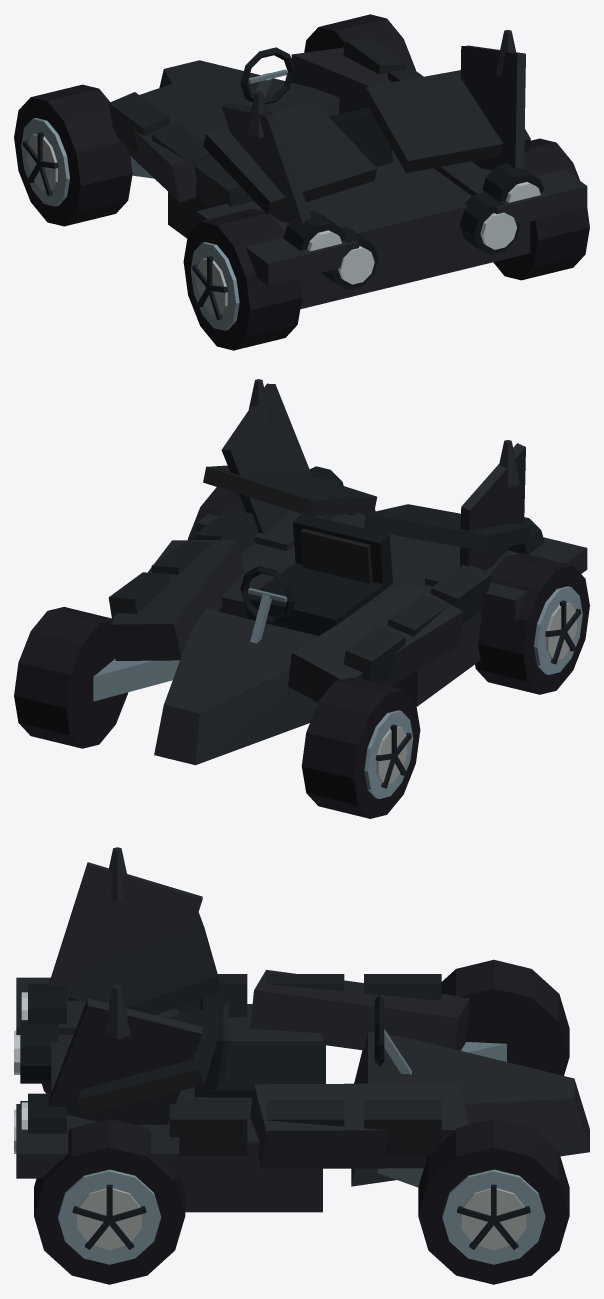
The model's file is kart.glb.
The picture shows the model from 3 angles, top to bottom: view 1: azimuth 30°, elevation 25°; view 2: azimuth 150°, elevation 25°; view 3: azimuth 270°, elevation 25°; orthographic projection. The views are drawn at different scales.
Parts seen in each view (by area): view 1: identity-tumbler-tumbler-broken-armor-and-front-forks, wheel-front-left, wheel-rear-left, identity-tumbler-motif-bat-fins, identity-tumbler-motif-armor, wheel-rear-right, identity-tumbler-driver-cockpit, identity-tumbler-motif-thrusters, wheel-front-right; view 2: identity-tumbler-tumbler-broken-armor-and-front-forks, wheel-front-left, identity-tumbler-driver-cockpit, wheel-rear-left, wheel-front-right, identity-tumbler-motif-bat-fins, identity-tumbler-motif-armor, wheel-rear-right, identity-tumbler-motif-thrusters; view 3: identity-tumbler-tumbler-broken-armor-and-front-forks, identity-tumbler-motif-bat-fins, wheel-front-right, wheel-rear-right, identity-tumbler-motif-armor, wheel-front-left, identity-tumbler-driver-cockpit, identity-tumbler-motif-thrusters.
Boxes of the visible parts, <box> form: identity-tumbler-tumbler-broken-armor-and-front-forks: <box>127,47,587,309</box>; wheel-front-left: <box>14,84,132,226</box>; wheel-rear-left: <box>183,208,302,350</box>; identity-tumbler-motif-bat-fins: <box>221,30,525,223</box>; identity-tumbler-motif-armor: <box>108,38,423,207</box>; wheel-rear-right: <box>493,138,589,280</box>; identity-tumbler-driver-cockpit: <box>240,47,392,166</box>; identity-tumbler-motif-thrusters: <box>283,163,544,251</box>; wheel-front-right: <box>304,14,415,70</box>; identity-tumbler-tumbler-broken-armor-and-front-forks: <box>93,465,587,765</box>; wheel-front-left: <box>301,677,420,818</box>; identity-tumbler-driver-cockpit: <box>240,514,392,643</box>; wheel-rear-left: <box>475,553,589,694</box>; wheel-front-right: <box>14,607,128,748</box>; identity-tumbler-motif-bat-fins: <box>221,379,525,570</box>; identity-tumbler-motif-armor: <box>108,509,491,684</box>; wheel-rear-right: <box>188,487,245,540</box>; identity-tumbler-motif-thrusters: <box>309,466,544,554</box>; identity-tumbler-tumbler-broken-armor-and-front-forks: <box>14,912,589,1212</box>; identity-tumbler-motif-bat-fins: <box>48,847,202,1124</box>; wheel-front-right: <box>418,1119,569,1284</box>; wheel-rear-right: <box>34,1119,185,1284</box>; identity-tumbler-motif-armor: <box>169,974,441,1156</box>; wheel-front-left: <box>441,959,569,1075</box>; identity-tumbler-driver-cockpit: <box>194,992,411,1097</box>; identity-tumbler-motif-thrusters: <box>21,983,66,1133</box>.
Size of the model in its own units: 2.4 by 1.55 by 2.97.
